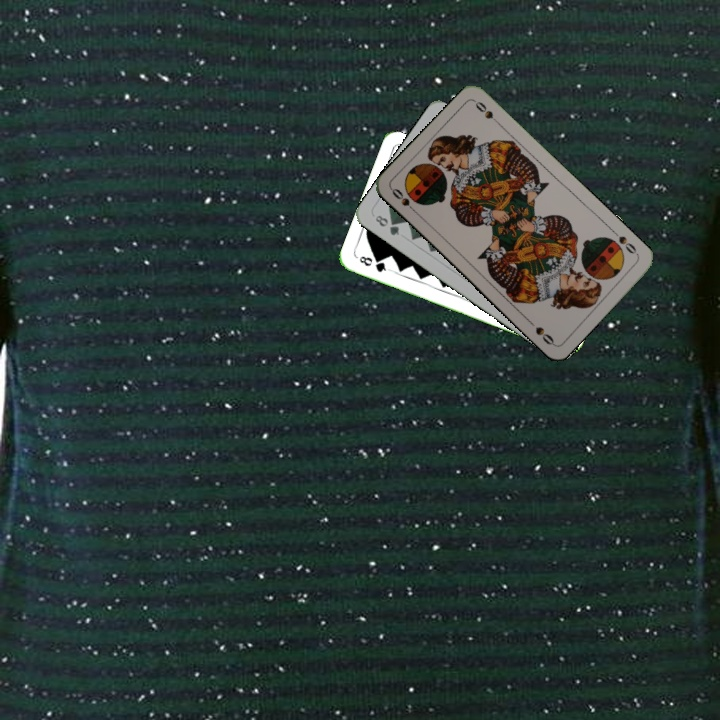G8: (355, 252, 392, 275), (371, 211, 402, 238)
SO: (387, 184, 420, 217), (609, 227, 641, 259)
